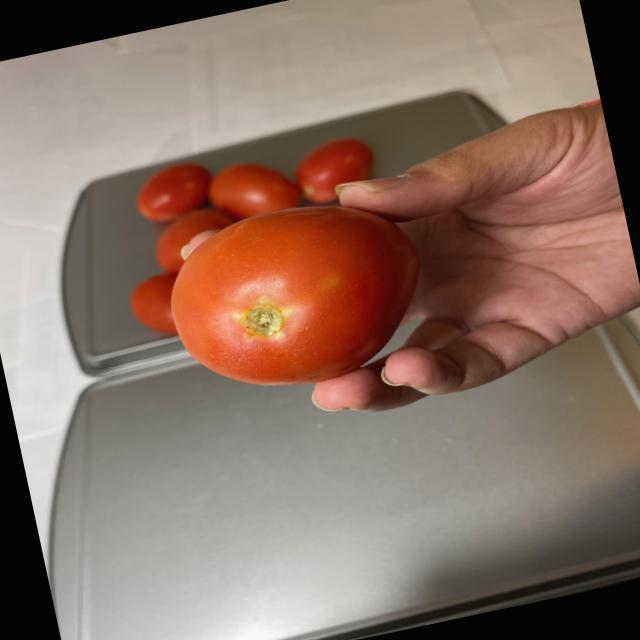tomato: (146, 183, 442, 407)
